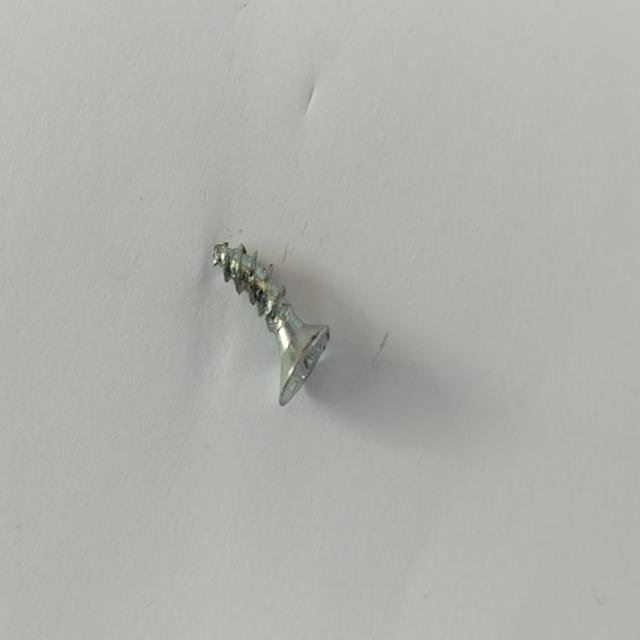Screw: (213, 241, 329, 405)
